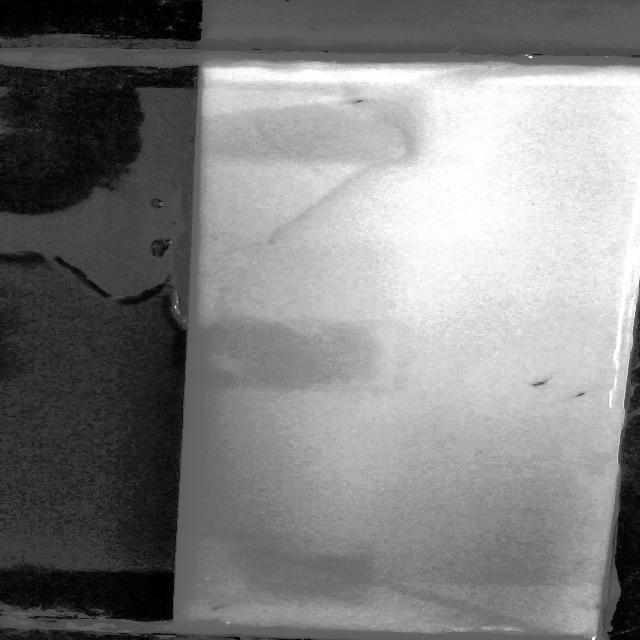shrimp: (338, 91, 384, 106), (568, 389, 599, 407), (528, 371, 552, 390), (204, 601, 240, 612)
